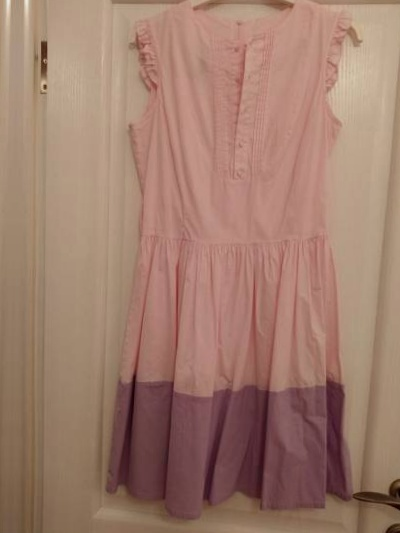Dress: (83, 2, 382, 504)
